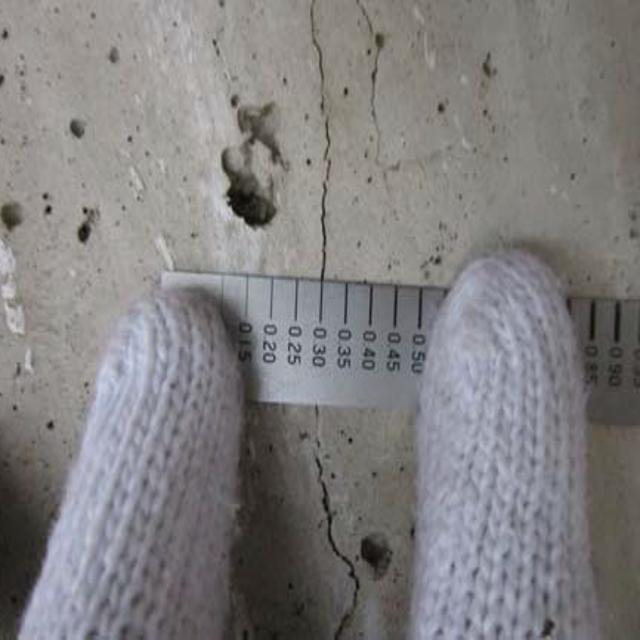crack: (294, 3, 413, 283), (284, 405, 379, 640)
